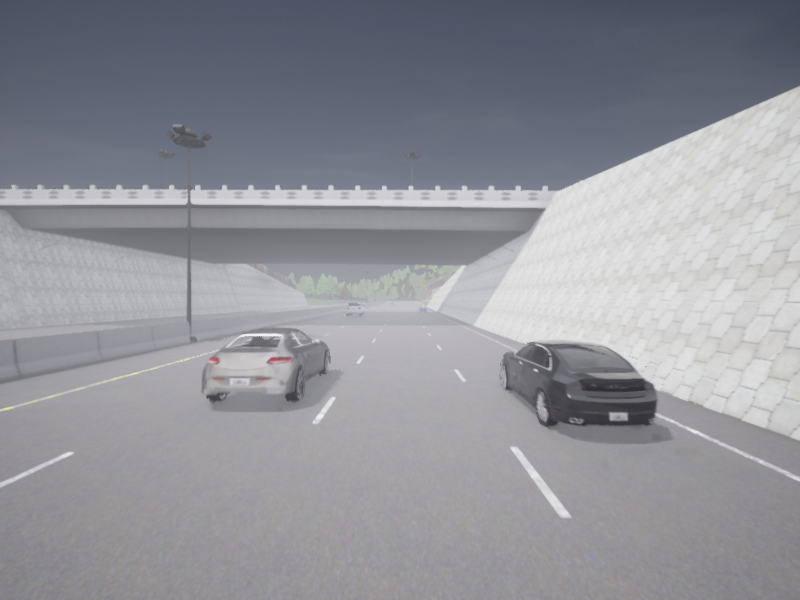vehicle: (500, 339, 657, 426), (201, 328, 328, 402), (347, 302, 364, 315), (418, 305, 426, 312), (390, 302, 395, 306)
